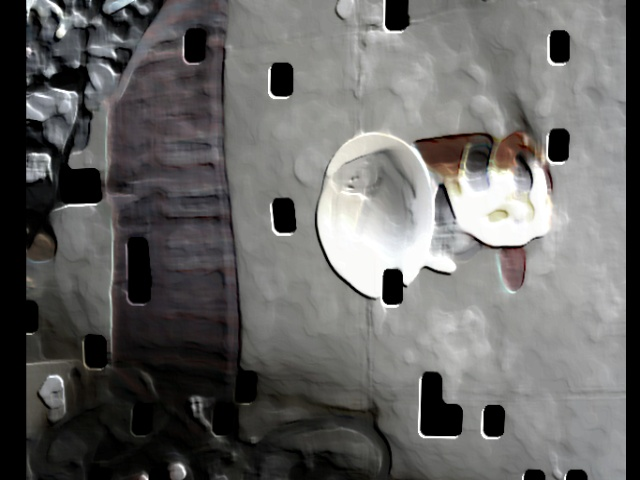three: (332, 156, 381, 193)
